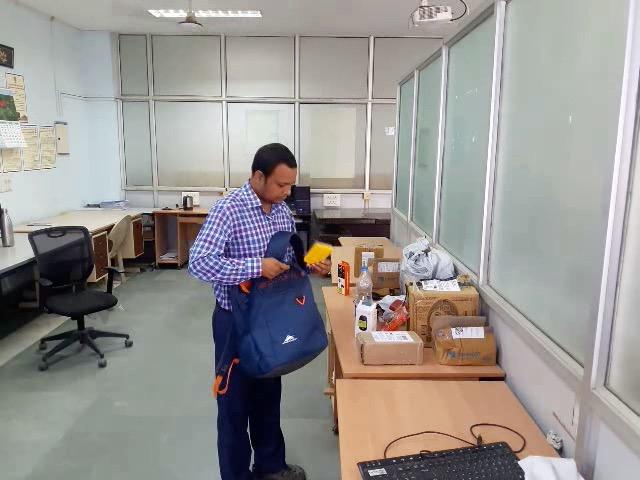shoplifting: (201, 211, 346, 402)
